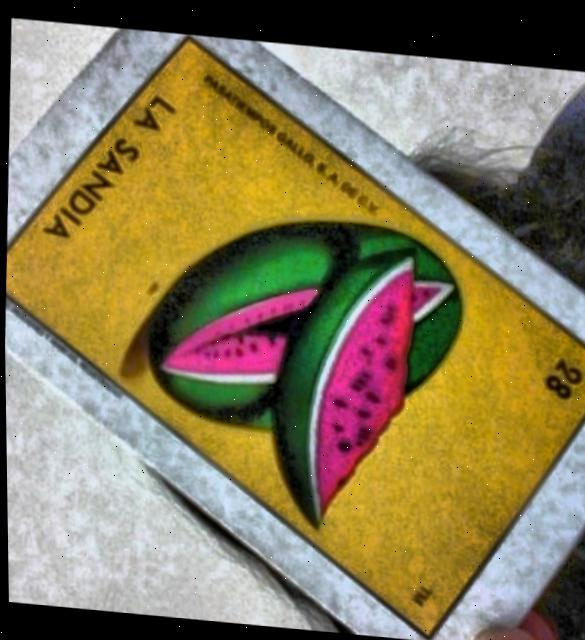La Sandia: (4, 38, 585, 630)
